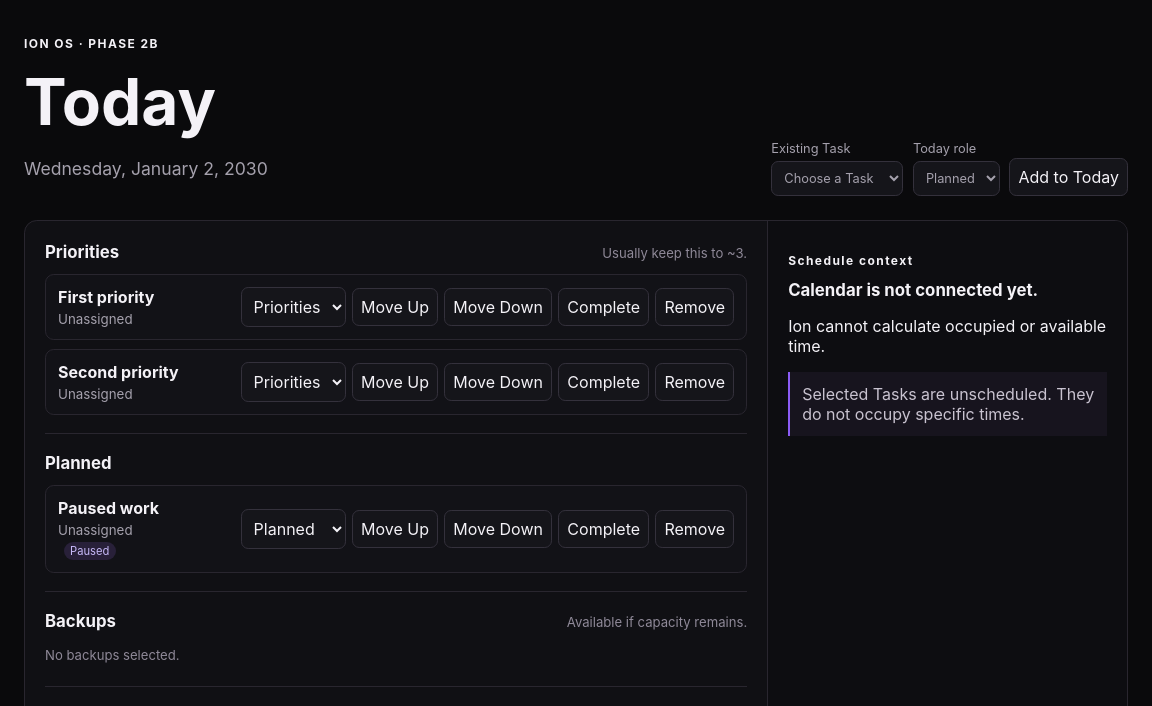
Test case: prevents duplicate add submissions while canonical confirmation is pending
Select "Available work" in the dropdown labelled "Existing Task": (837, 179) [771,161,903,196]
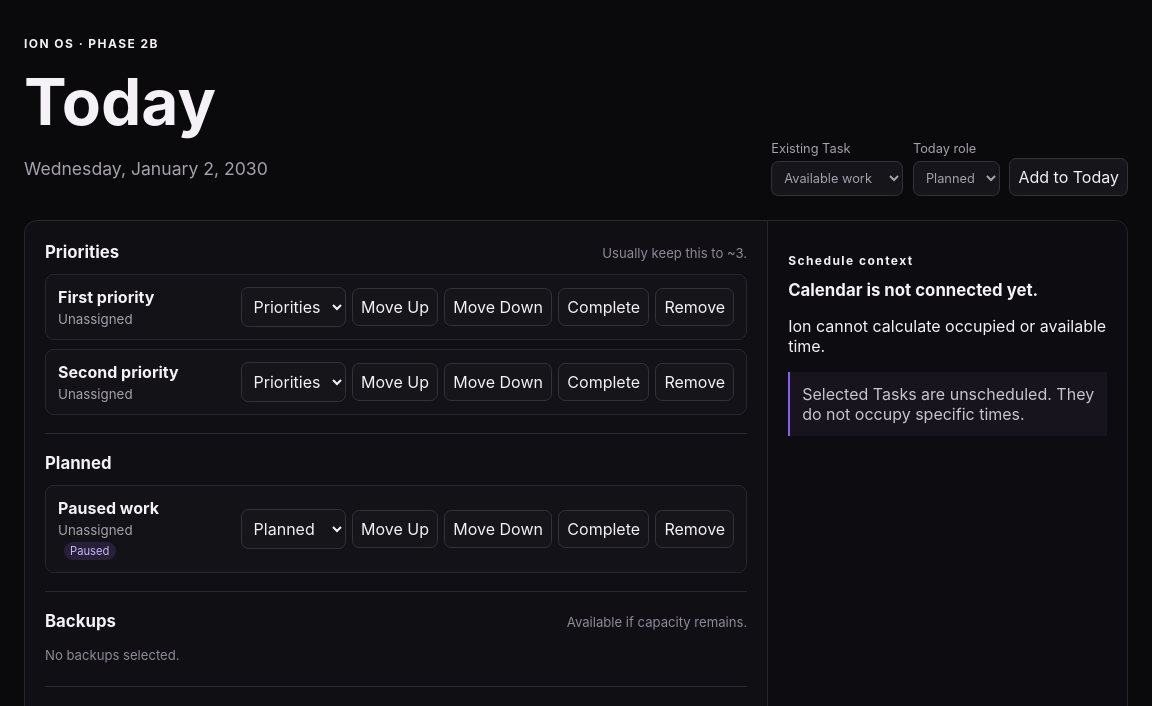
Click the button "Add to Today": (1069, 177) [1010,158,1128,196]
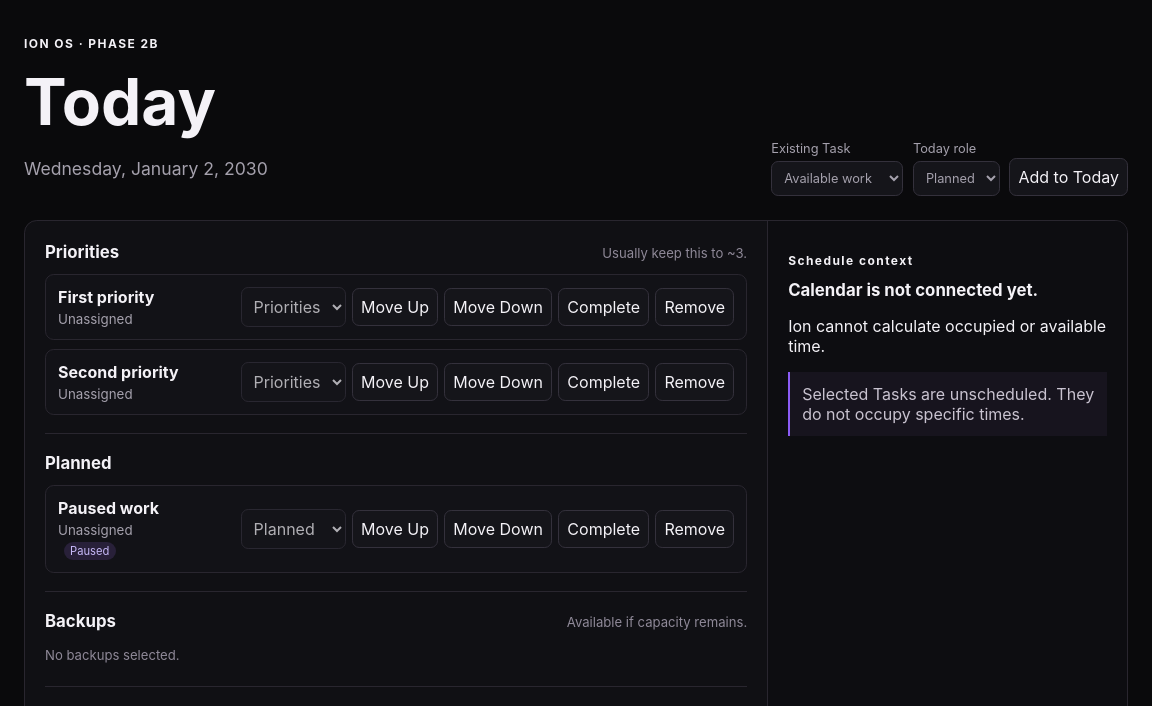
Click the button "Add to Today": (1069, 177) [1010,158,1128,196]
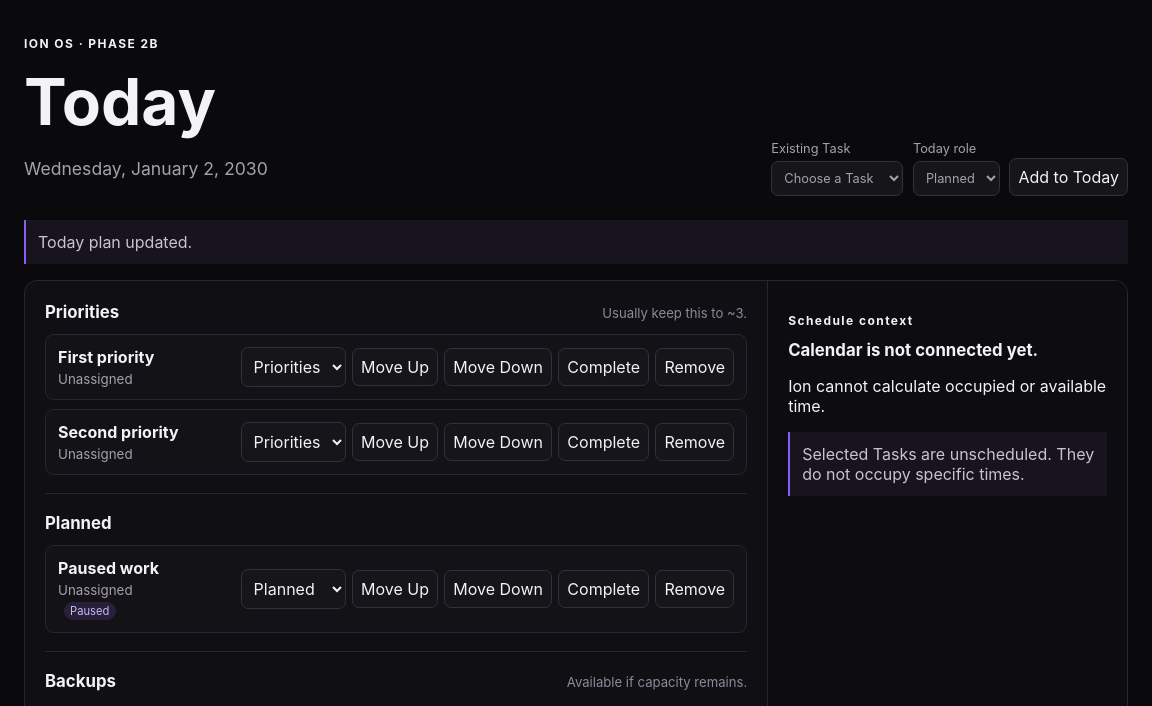
Check: the text "Today plan updated." is shown, box [24,220,1128,264]
